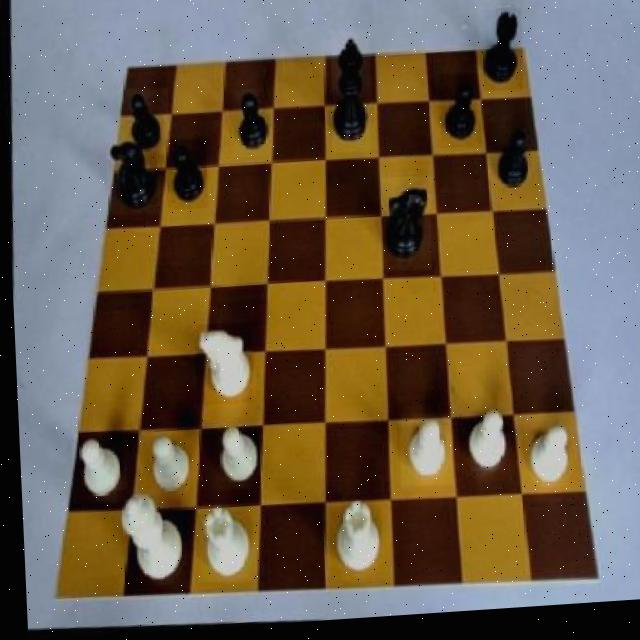black-bishop: (326, 35, 374, 160)
black-king: (376, 181, 433, 278), (102, 135, 160, 218)
black-knight: (436, 78, 483, 156), (118, 89, 170, 159), (491, 129, 535, 209), (163, 140, 209, 212), (228, 92, 274, 162)
black-queen: (482, 14, 526, 99)
white-bishop: (108, 488, 185, 595)
white-king: (191, 324, 251, 410)
white-knight: (67, 431, 125, 507), (137, 428, 193, 506), (395, 417, 450, 494), (455, 414, 510, 489), (207, 423, 262, 495), (522, 421, 569, 499)
white-queen: (192, 501, 254, 585), (322, 504, 381, 583)
